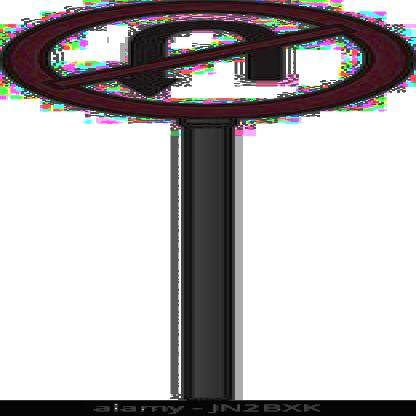No U-turn: (5, 0, 416, 121)
